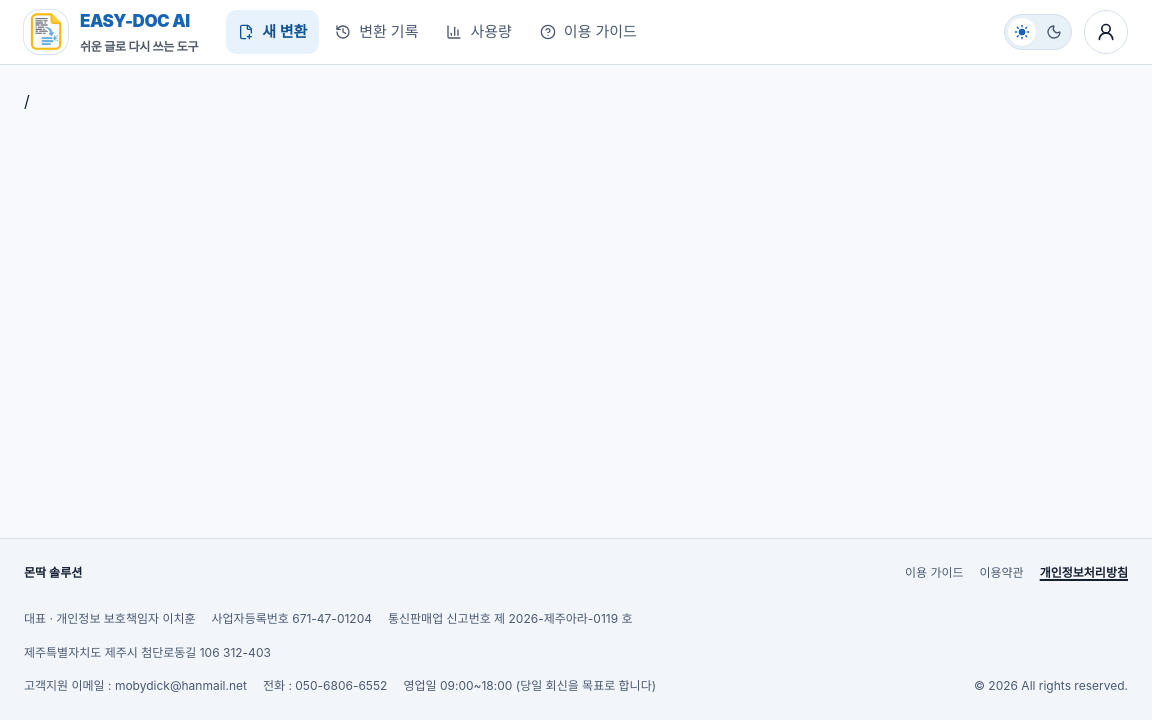
계정 메뉴 › 이메일은 메뉴를 열기 전에는 보이지 않는다
The image size is (1152, 720).
Expected: the text "gongmuwon@example.test" is not shown
Click the button named "계정 메뉴" at coordinates (1106, 32), box top-left (1084, 10), bottom-right (1128, 54)
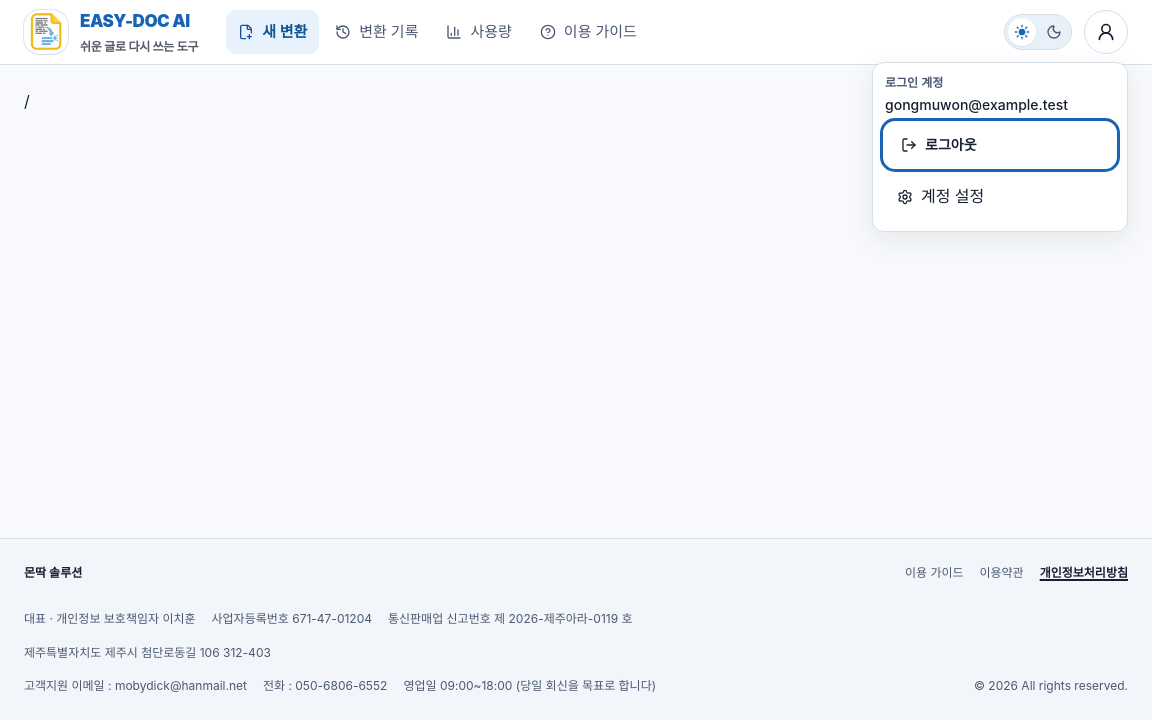
Result: the text "gongmuwon@example.test" is shown at top-left (885, 96), bottom-right (1068, 113)
Result: the button "로그아웃" is shown at top-left (885, 123), bottom-right (1115, 167)
